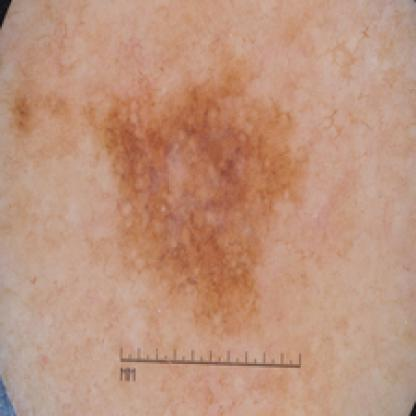malignant: (89, 67, 286, 286)
